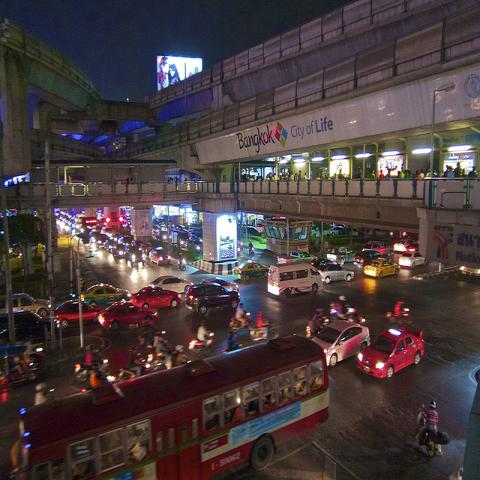bus: (8, 333, 332, 479)
car: (356, 327, 427, 380), (312, 318, 371, 366), (184, 282, 241, 316), (0, 310, 60, 342), (98, 301, 160, 328), (55, 298, 106, 328), (130, 285, 182, 309), (0, 293, 50, 317), (81, 284, 132, 306), (363, 257, 400, 279), (233, 261, 270, 283), (316, 264, 355, 284), (426, 395, 435, 455), (311, 258, 336, 268)
motorcycle: (414, 404, 442, 458), (118, 353, 152, 382), (74, 358, 111, 382), (147, 344, 179, 371), (9, 356, 38, 384), (251, 321, 280, 343), (80, 376, 116, 392), (305, 317, 329, 339), (387, 308, 411, 326), (230, 312, 250, 333), (188, 338, 215, 350), (238, 242, 256, 258), (138, 332, 152, 350), (177, 259, 187, 271)
truck: (266, 260, 323, 299)
